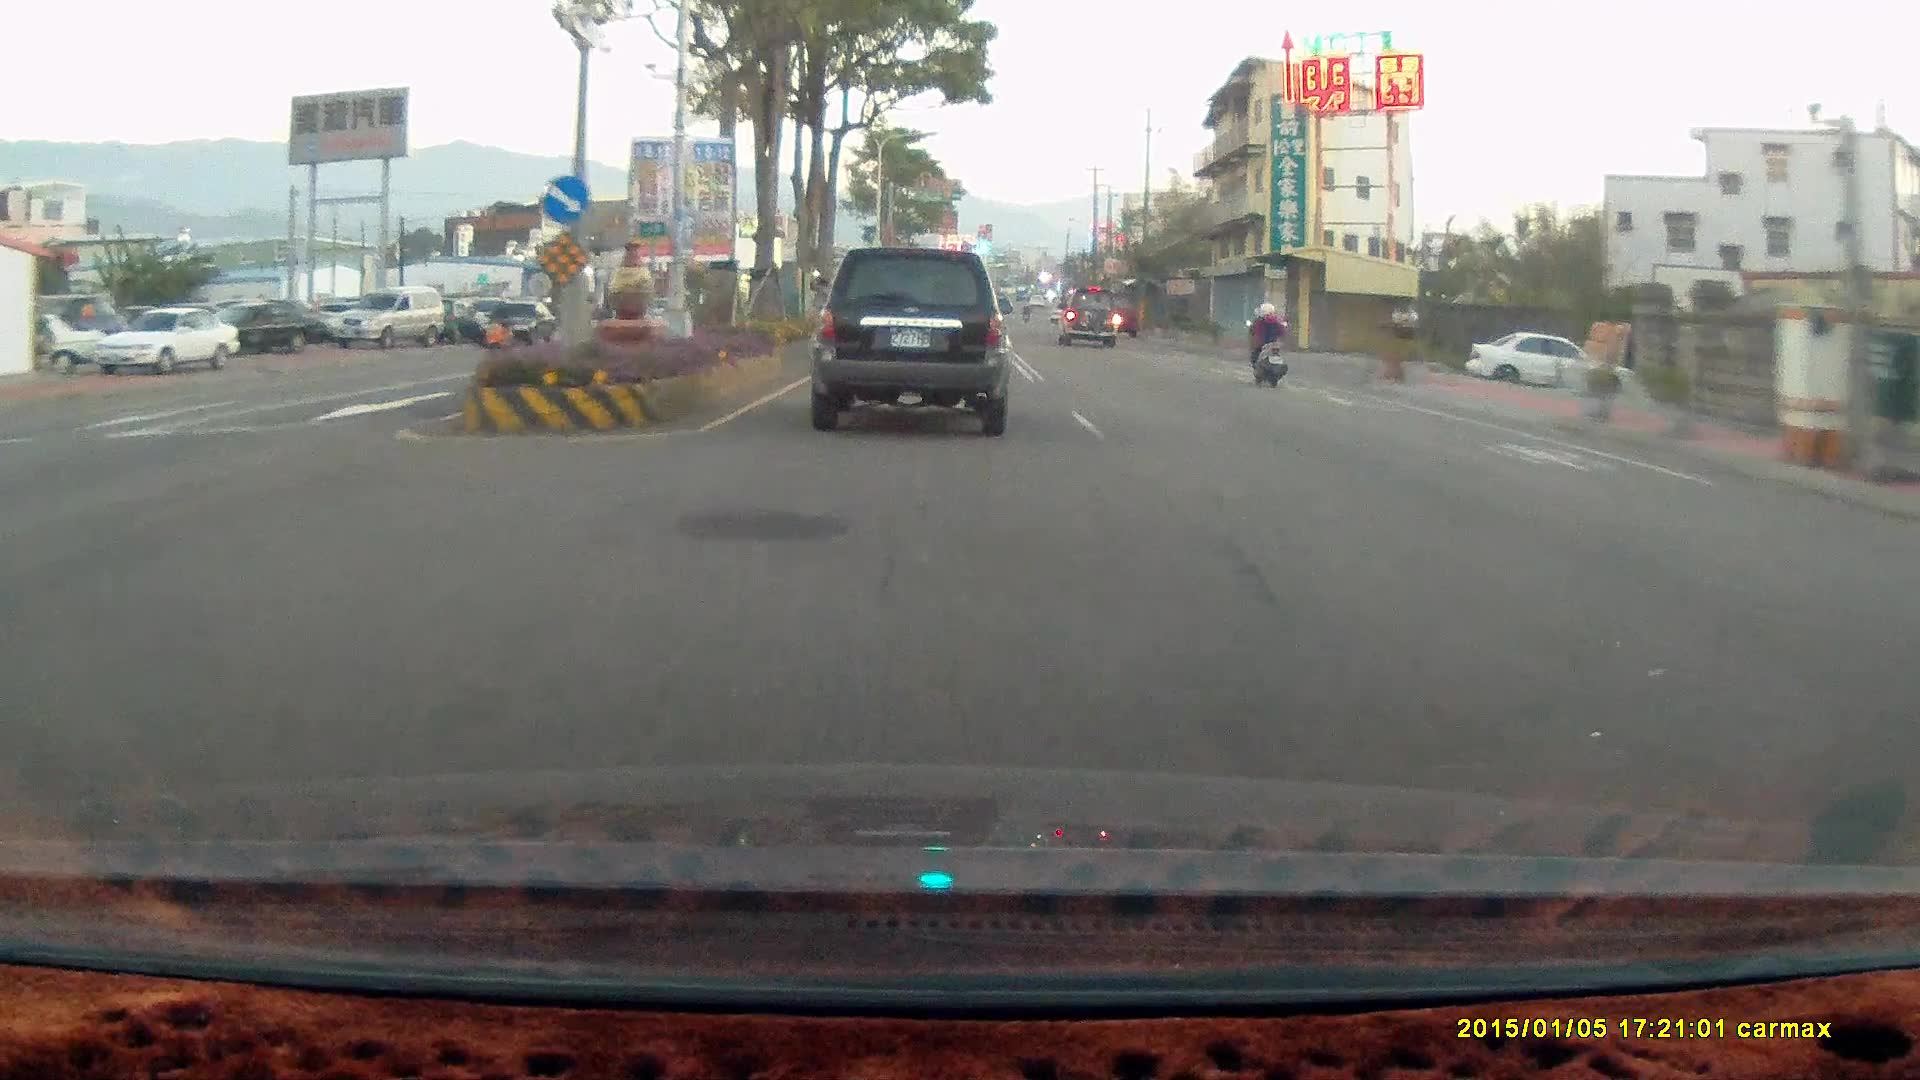rider: (1236, 293, 1299, 398), (1243, 301, 1287, 390), (478, 299, 514, 360)
vehicle: (807, 246, 1011, 444), (806, 249, 1012, 437), (1465, 332, 1641, 395), (1465, 331, 1640, 394), (80, 315, 238, 382), (90, 308, 242, 377), (201, 303, 334, 363), (192, 299, 326, 355), (335, 292, 448, 353), (332, 286, 445, 347), (1055, 285, 1118, 345), (1060, 296, 1120, 359), (484, 300, 561, 346), (484, 300, 555, 345), (1096, 287, 1139, 337)
